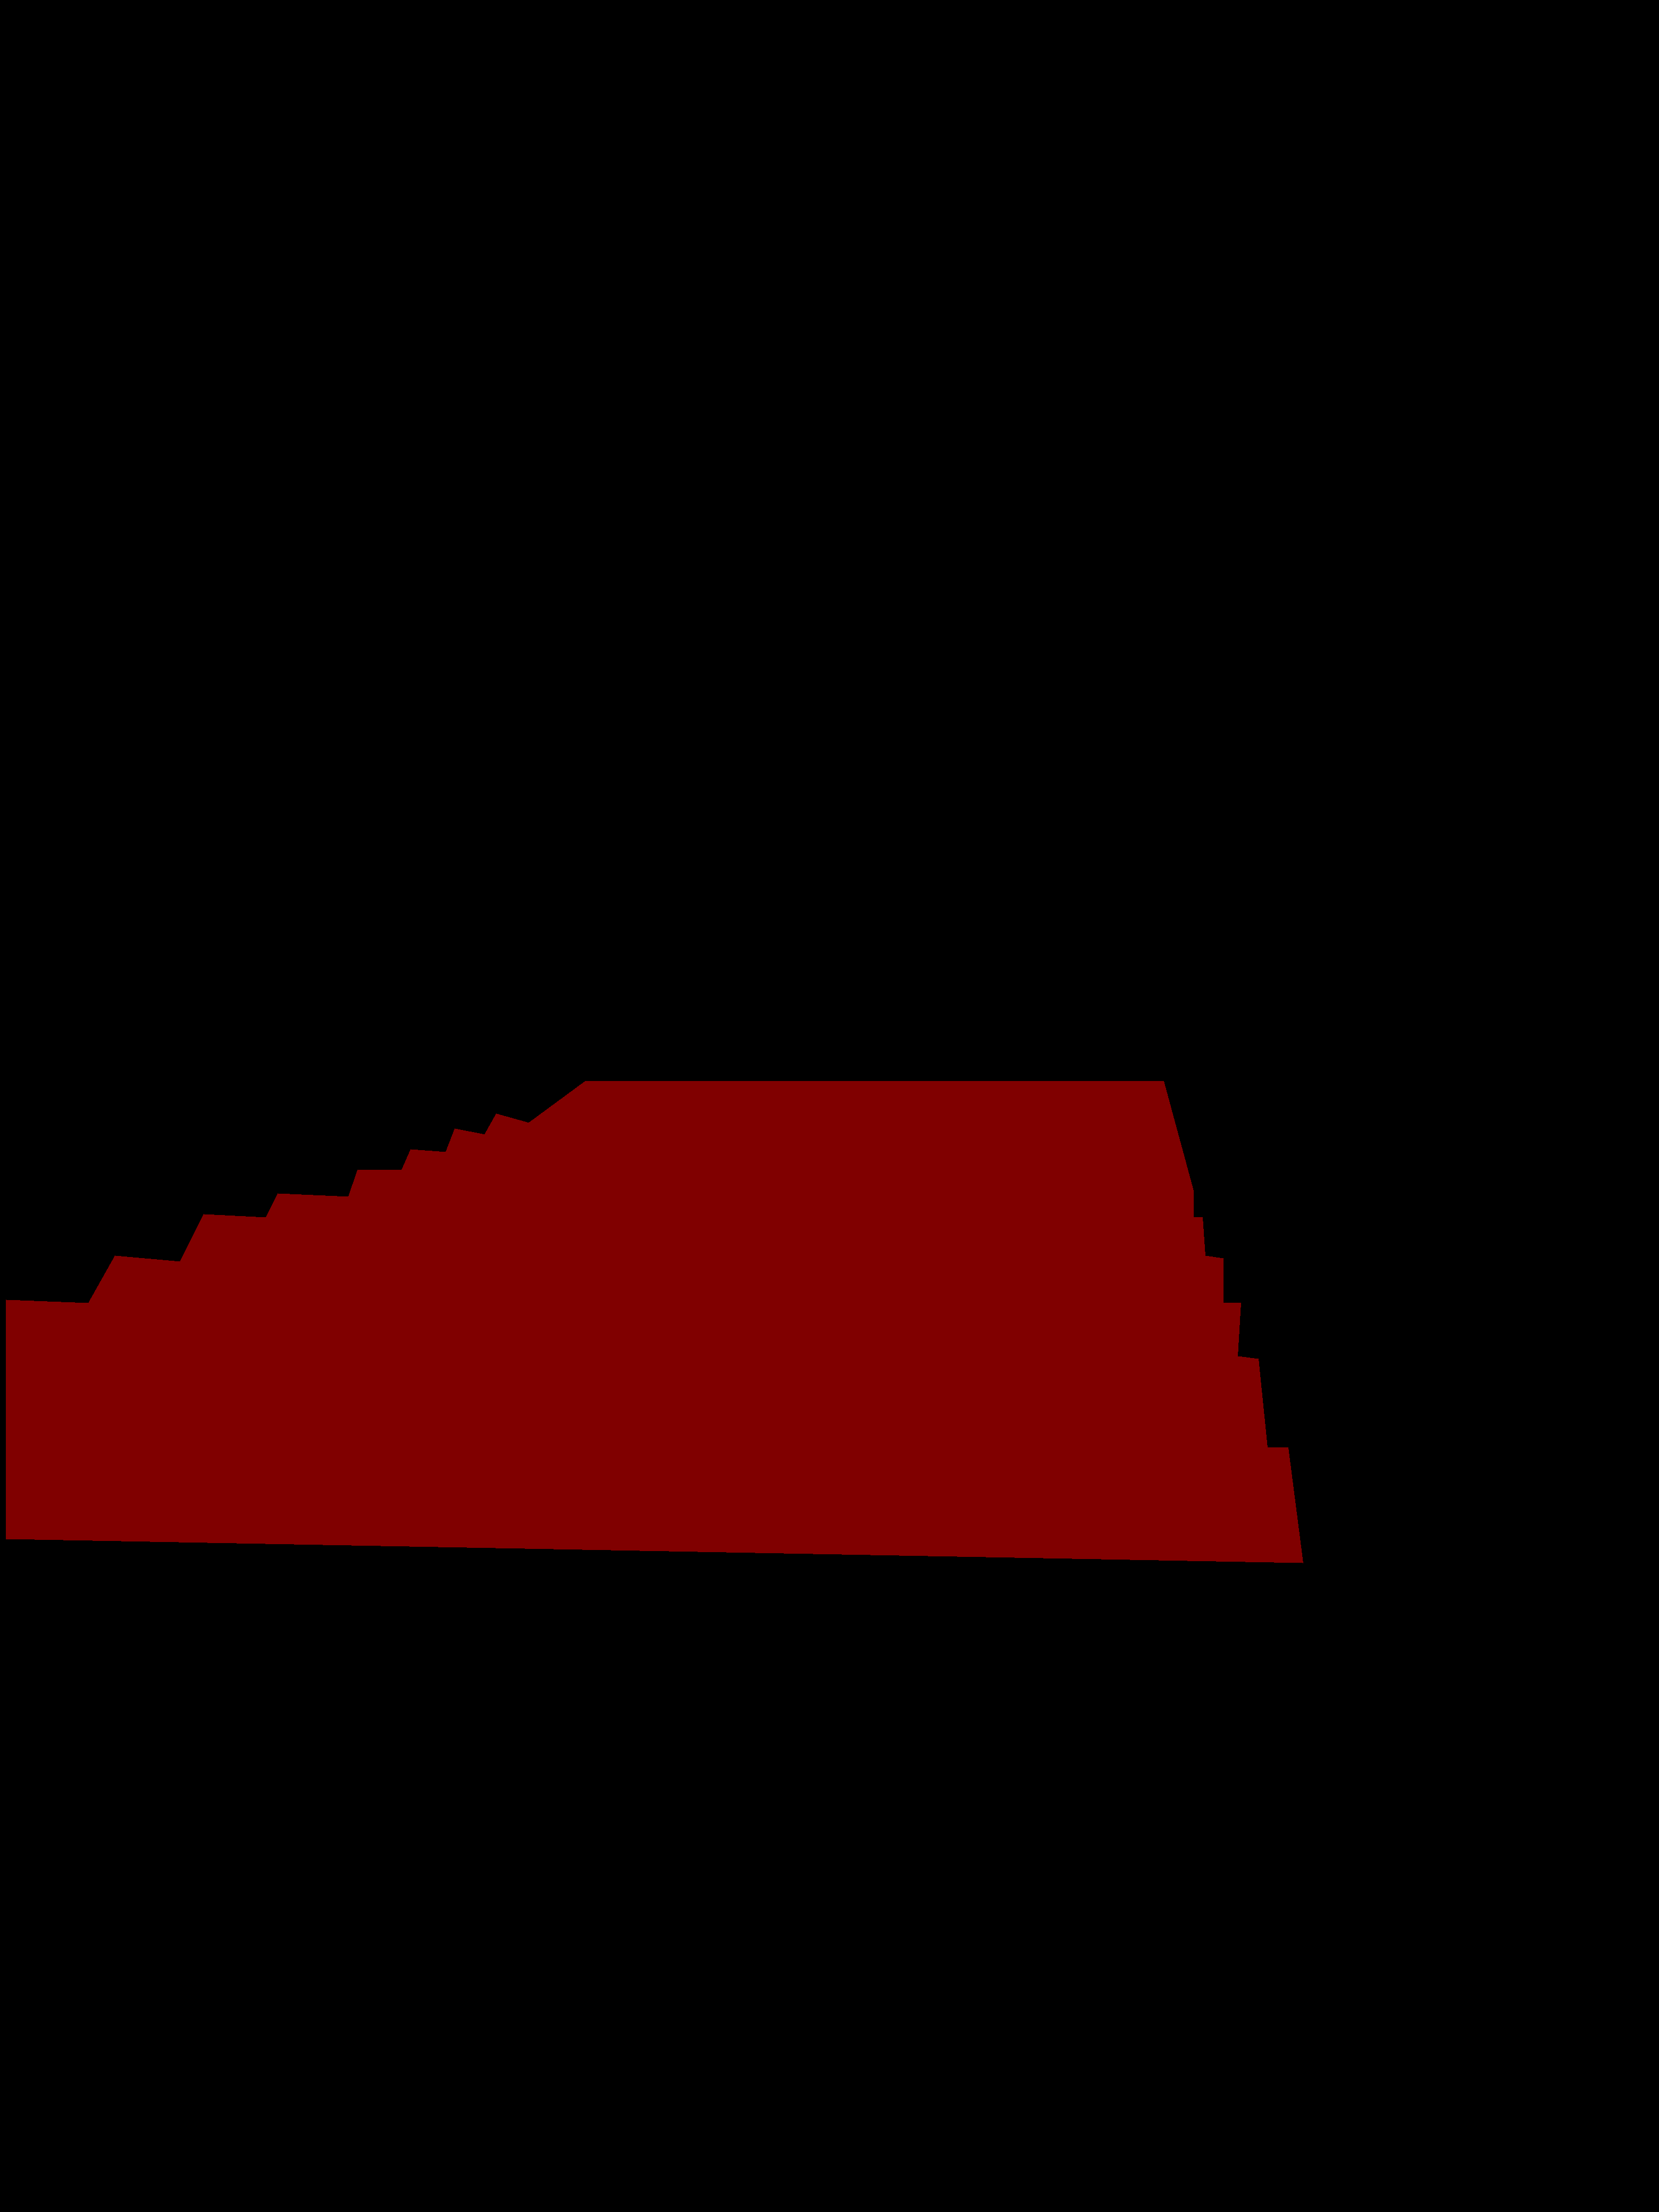stair: (5, 1082, 1303, 1562)
